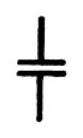Capacitor: (4, 36, 70, 95)
